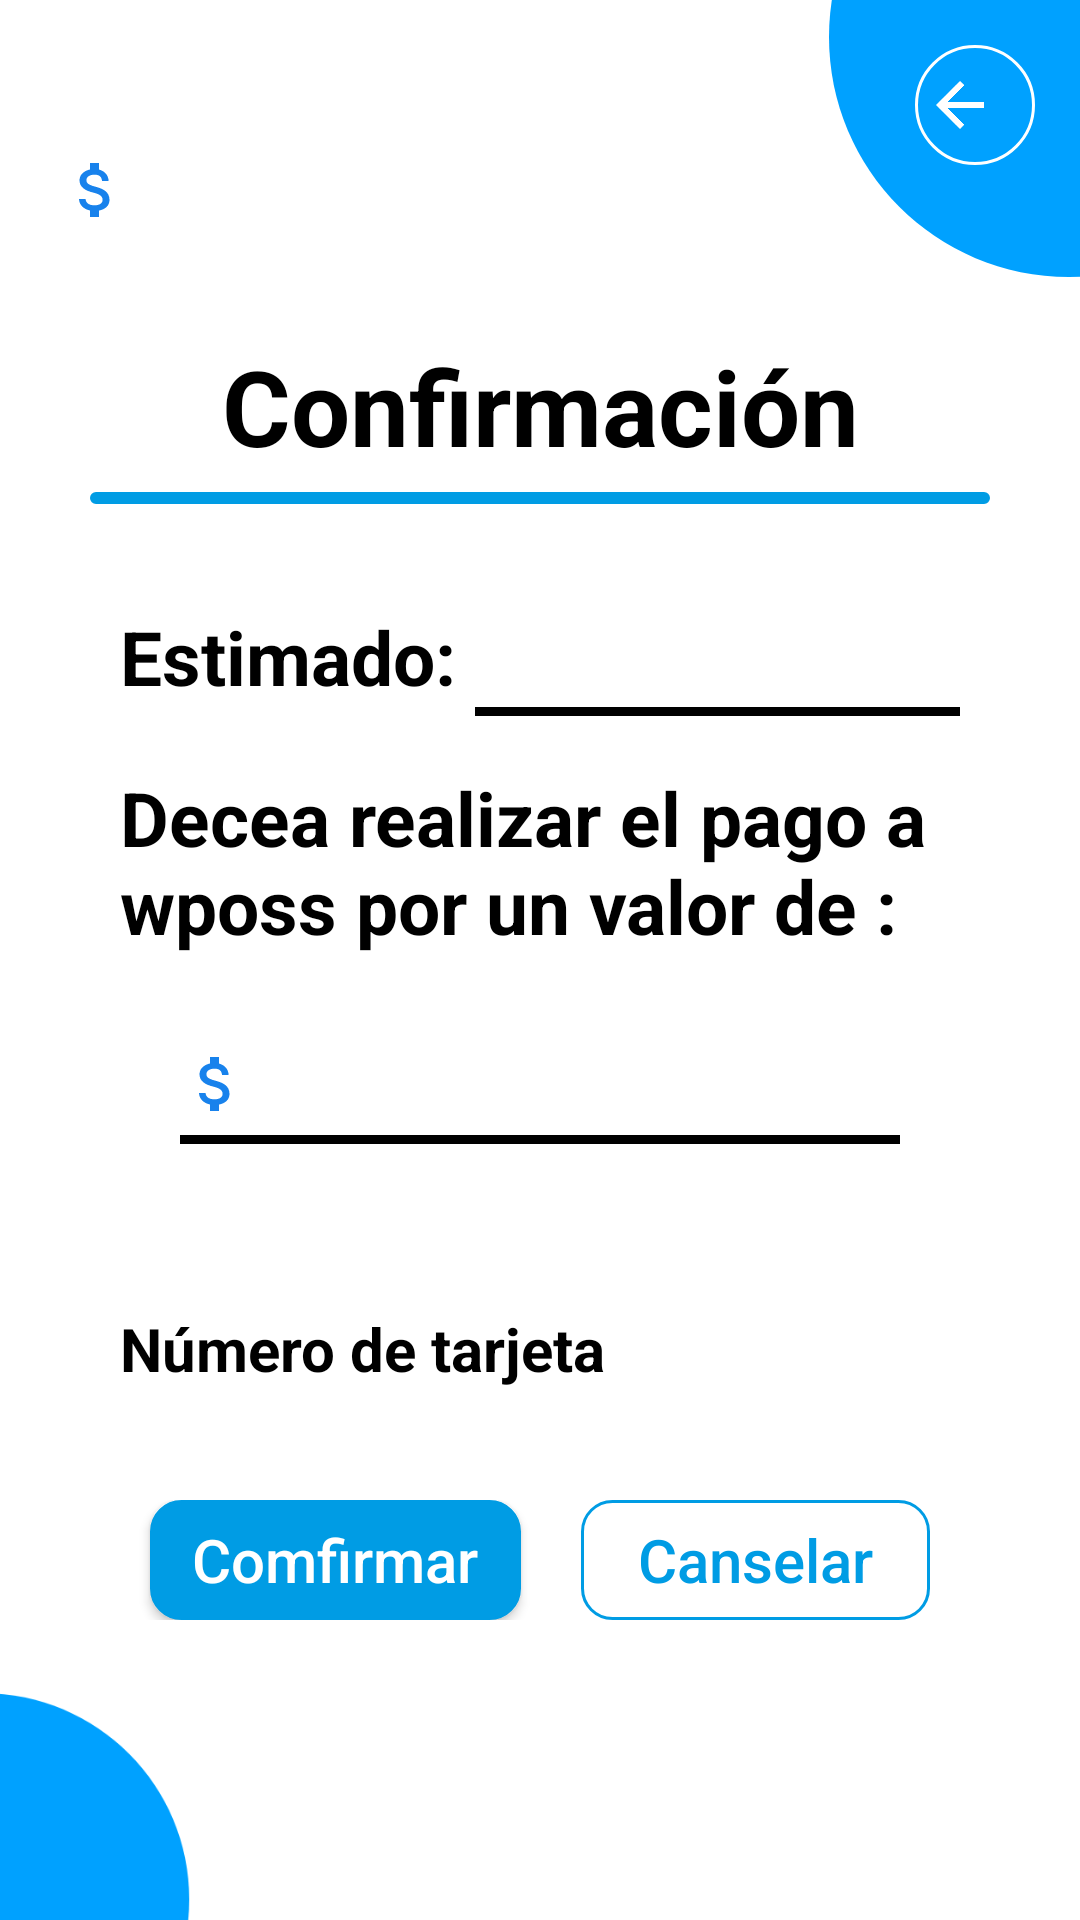

Where to tap for icons on this 1080 × 1920 app screen, as point (x, y):
back: point (975, 105)
